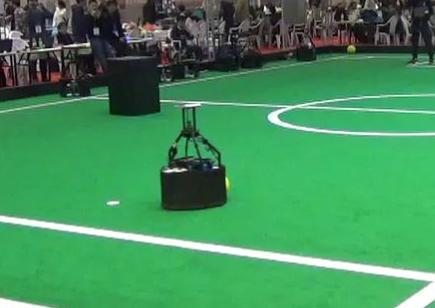robot: (156, 101, 231, 210)
